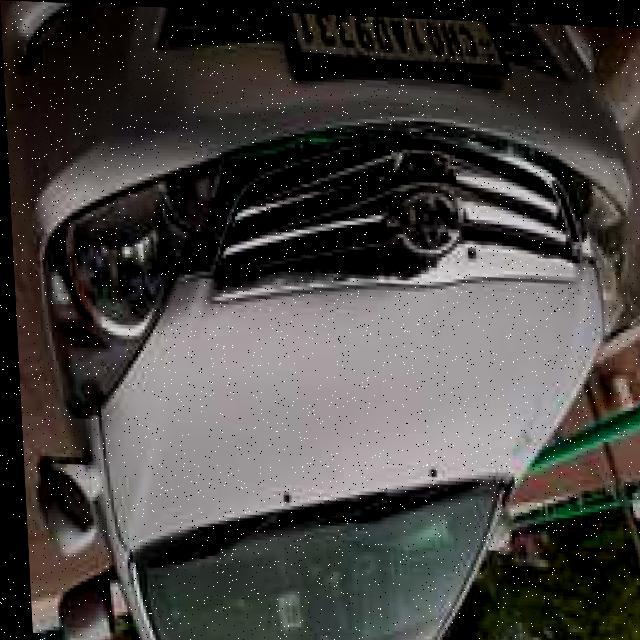plate: (291, 10, 504, 75)
